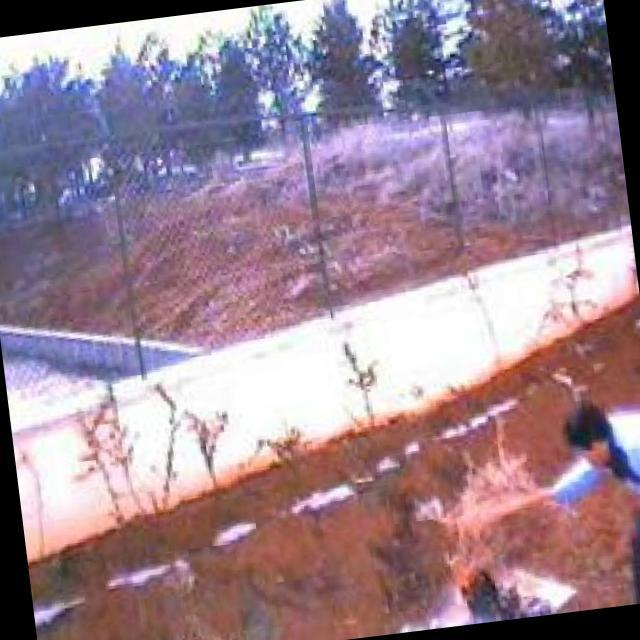Fire: (438, 548, 510, 623)
